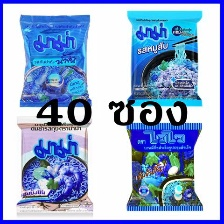snack: (121, 6, 206, 111), (12, 112, 97, 216), (120, 117, 208, 214), (13, 9, 96, 110)
